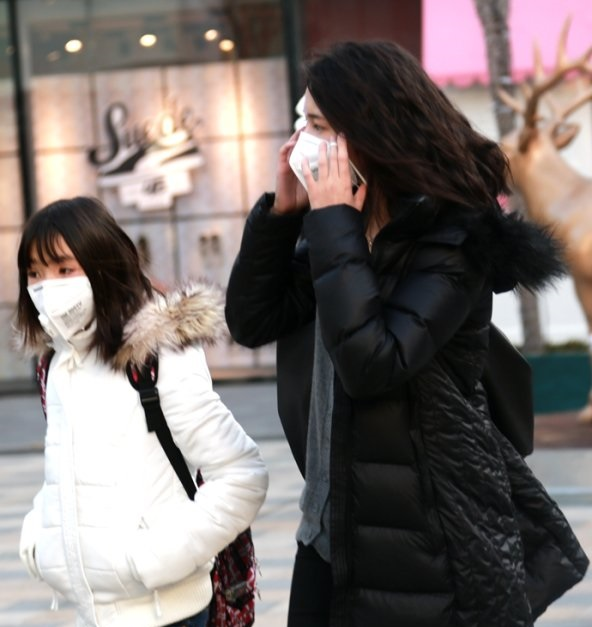face_mask: (288, 82, 363, 199), (27, 233, 100, 345)
